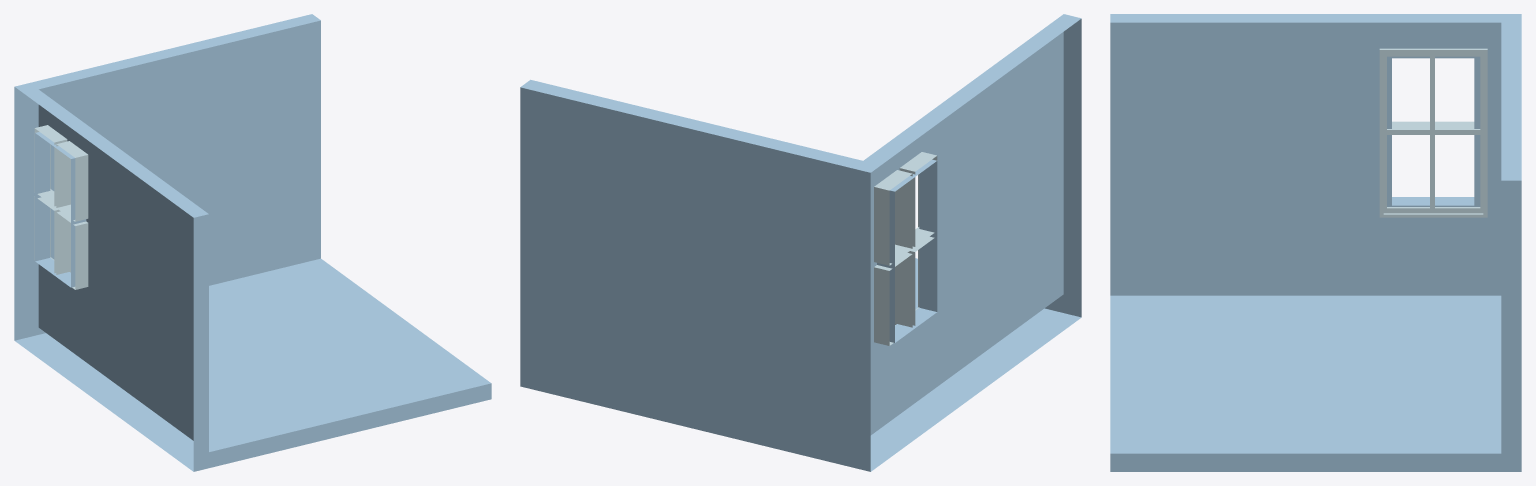
File: room.gltf
3 views of the same model, side by side, from view 1: azimuth 30°, elevation 25°; view 2: azimuth 150°, elevation 25°; view 3: azimuth 270°, elevation 25° (orthographic). The views are drawn at different scales.
Parts seen in each view (by area): view 1: Plane, Plane.002; view 2: Plane, Plane.002; view 3: Plane, Plane.002.
Part boxes in pixels (left/top/right/bottom): Plane: left=14, top=14, right=491, bottom=471; Plane.002: left=34, top=125, right=88, bottom=289; Plane: left=520, top=14, right=1081, bottom=471; Plane.002: left=874, top=152, right=937, bottom=345; Plane: left=1110, top=14, right=1521, bottom=471; Plane.002: left=1379, top=48, right=1487, bottom=217.
Bounding box in the file's own units: 10.76 × 8.77 × 11.22.
